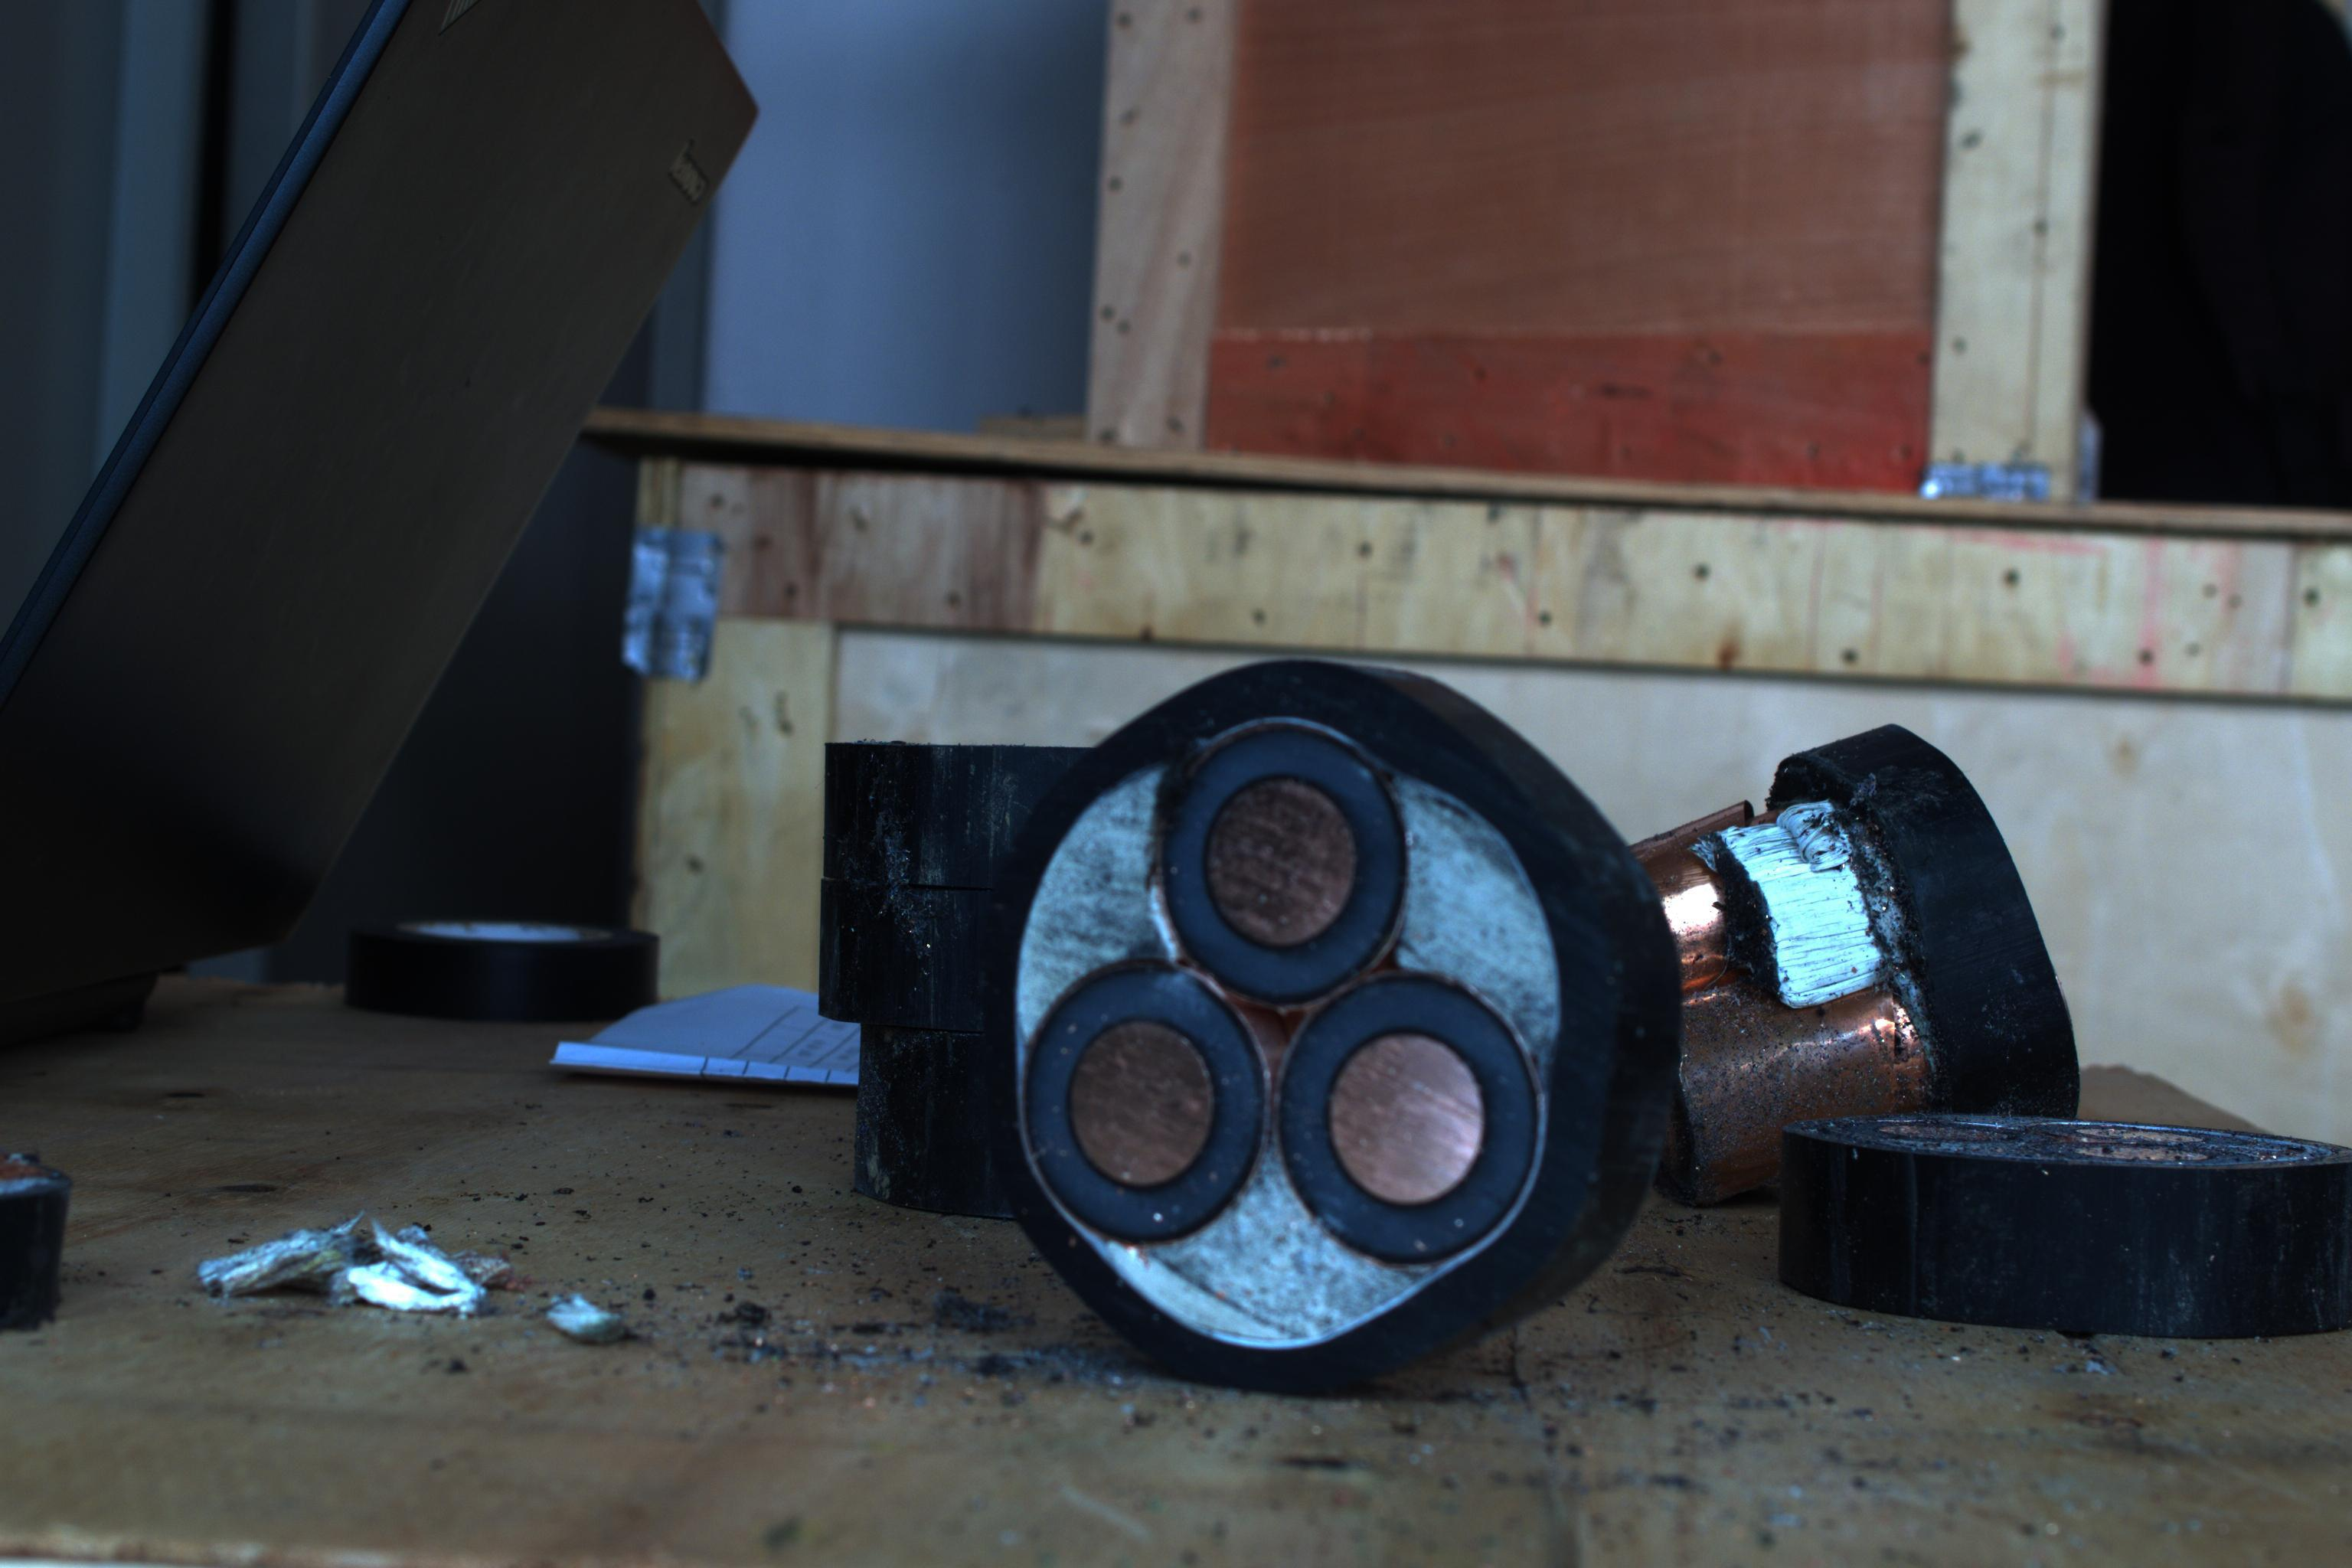ZA_YJV_8.7_10kV_3x240: (997, 696, 1641, 1353)
